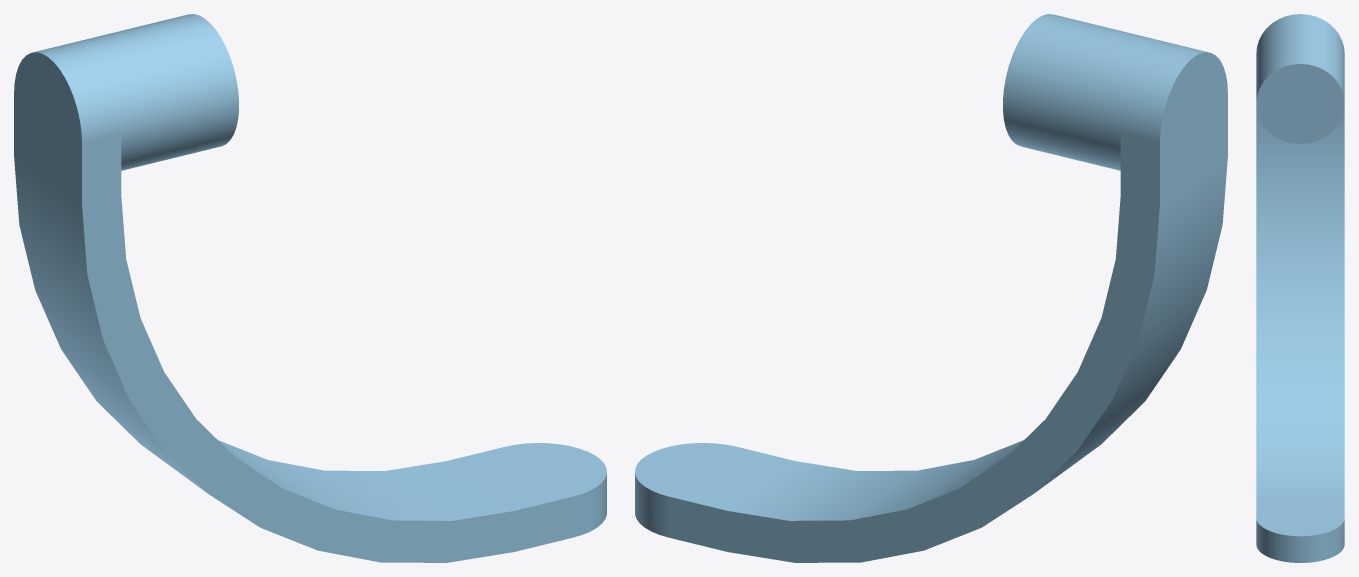
File: GimbalLowerArm.dae
3 views of the same model, side by side, from view 1: azimuth 30°, elevation 25°; view 2: azimuth 150°, elevation 25°; view 3: azimuth 270°, elevation 25° (orthographic). The views are drawn at different scales.
Visible parts, largest first — view 1: ID2; view 2: ID2; view 3: ID2.
Part boxes in pixels (x1,y1,x2,y2): ID2: (14, 14, 606, 562); ID2: (635, 14, 1227, 562); ID2: (1256, 14, 1344, 562).
Bounding box in the file's own units: 0.2799 × 0.06 × 0.28.
